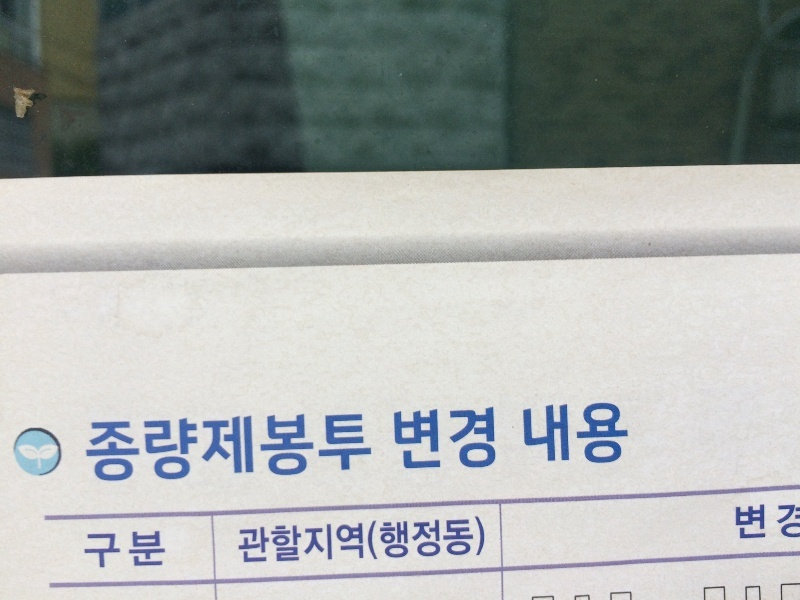text: (97, 412, 112, 488), (113, 412, 128, 488), (129, 412, 144, 488), (145, 412, 160, 488), (161, 412, 176, 488), (177, 412, 192, 488), (193, 412, 208, 488), (209, 412, 224, 488), (225, 412, 240, 488), (241, 412, 256, 488), (257, 412, 272, 488), (273, 412, 288, 488), (289, 412, 304, 488), (305, 412, 320, 488), (321, 412, 336, 488), (337, 412, 352, 488), (353, 412, 368, 488), (529, 402, 544, 467), (545, 402, 560, 467), (561, 402, 576, 467), (577, 402, 592, 467), (593, 402, 608, 467), (609, 402, 624, 467), (401, 406, 416, 471), (417, 406, 432, 471), (433, 406, 448, 471), (449, 406, 464, 471), (465, 406, 480, 471), (481, 406, 496, 471), (369, 515, 384, 566), (385, 515, 400, 566), (401, 515, 416, 566), (417, 515, 432, 566), (433, 515, 448, 566), (449, 515, 464, 566), (465, 515, 480, 566), (241, 522, 256, 566), (257, 522, 272, 566), (273, 522, 288, 566), (289, 522, 304, 566), (305, 522, 320, 566), (321, 522, 336, 566), (337, 522, 352, 566), (785, 503, 800, 545), (97, 531, 112, 571), (113, 531, 128, 571), (129, 531, 144, 571), (145, 531, 160, 571), (737, 504, 752, 541), (353, 522, 365, 566), (753, 504, 766, 541), (84, 531, 96, 571), (90, 412, 96, 488), (393, 406, 400, 471), (522, 402, 528, 467), (775, 503, 784, 545), (625, 402, 629, 467), (481, 515, 486, 566), (369, 412, 372, 488), (161, 531, 166, 571), (238, 522, 240, 566), (367, 515, 368, 566), (735, 504, 736, 541)
